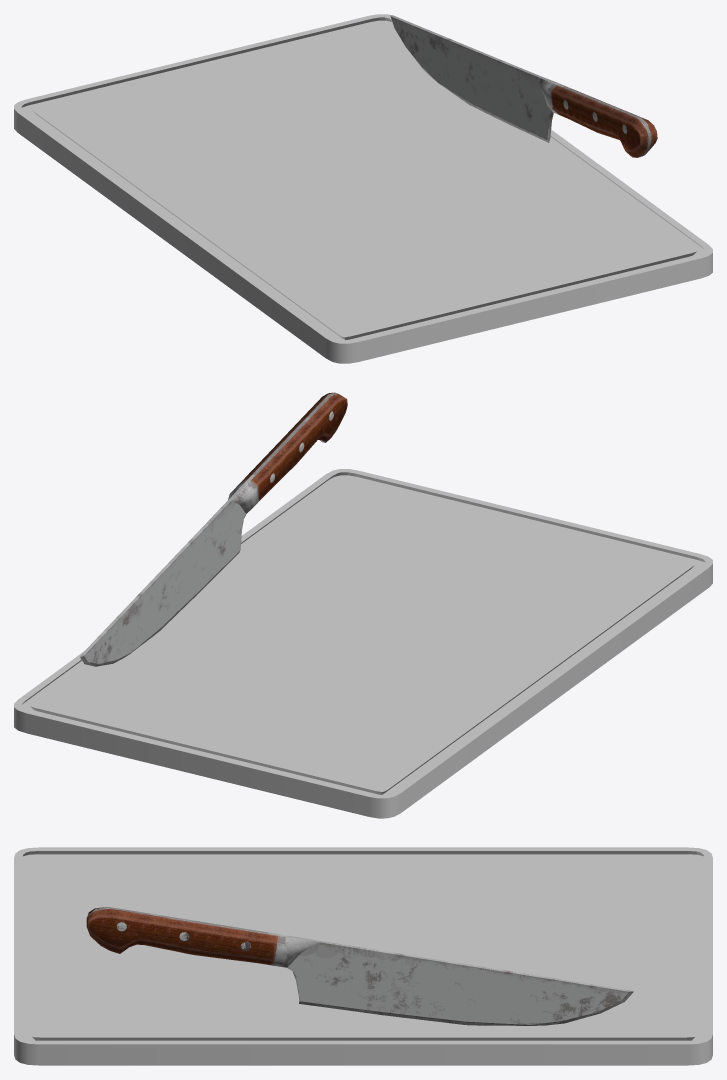
File: CuttingStation01.FBX
The picture shows the model from 3 angles, top to bottom: view 1: azimuth 30°, elevation 25°; view 2: azimuth 150°, elevation 25°; view 3: azimuth 270°, elevation 25°; orthographic projection. The views are drawn at different scales.
Parts seen in each view (by area): view 1: Board, Knife; view 2: Board, Knife; view 3: Board, Knife.
Boxes of the visible parts, x1,y1,x2,y2 form: Board: [14, 14, 712, 363]; Knife: [390, 15, 657, 157]; Board: [14, 469, 712, 818]; Knife: [80, 392, 347, 666]; Board: [14, 847, 712, 1065]; Knife: [86, 907, 633, 1025].
Bounding box in the file's own units: 20 × 6.59 × 30.
